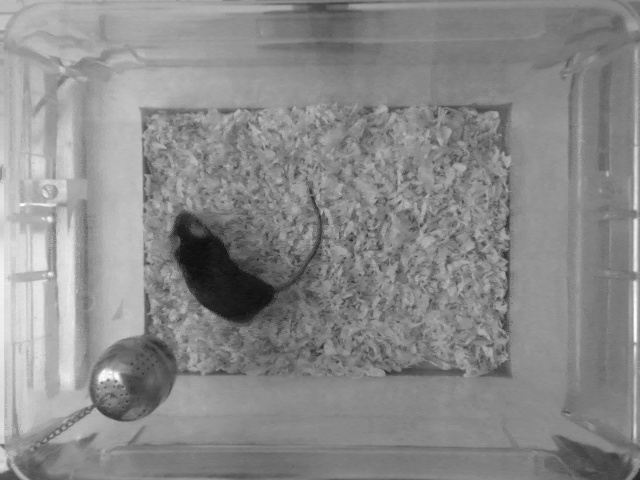mice: (171, 186, 330, 325)
